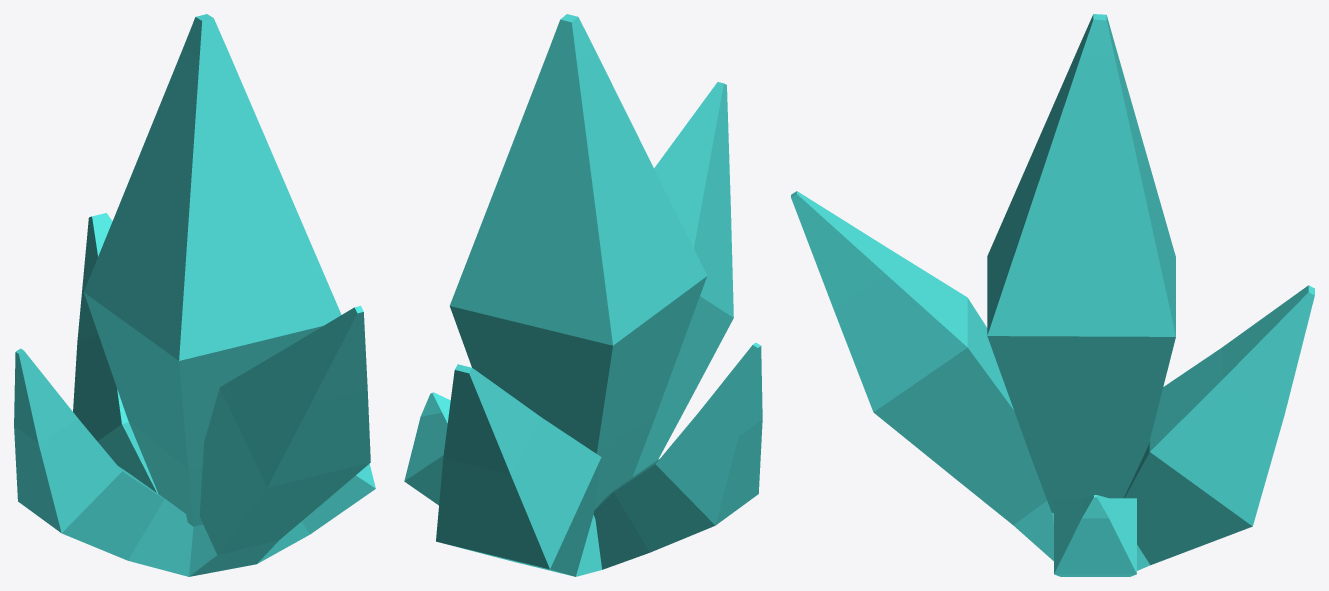
Rendered from titanium.fbx.
The picture shows the model from 3 angles, left to right: view 1: azimuth 30°, elevation 25°; view 2: azimuth 150°, elevation 25°; view 3: azimuth 270°, elevation 25°; orthographic projection.
Parts seen in each view (by area): view 1: Cube; view 2: Cube; view 3: Cube.
Part boxes in pixels (<box>): Cube: <box>14,14,375,576</box>; Cube: <box>404,14,762,576</box>; Cube: <box>791,14,1314,576</box>.
Bounding box in the file's own units: 274 × 423 × 372.
